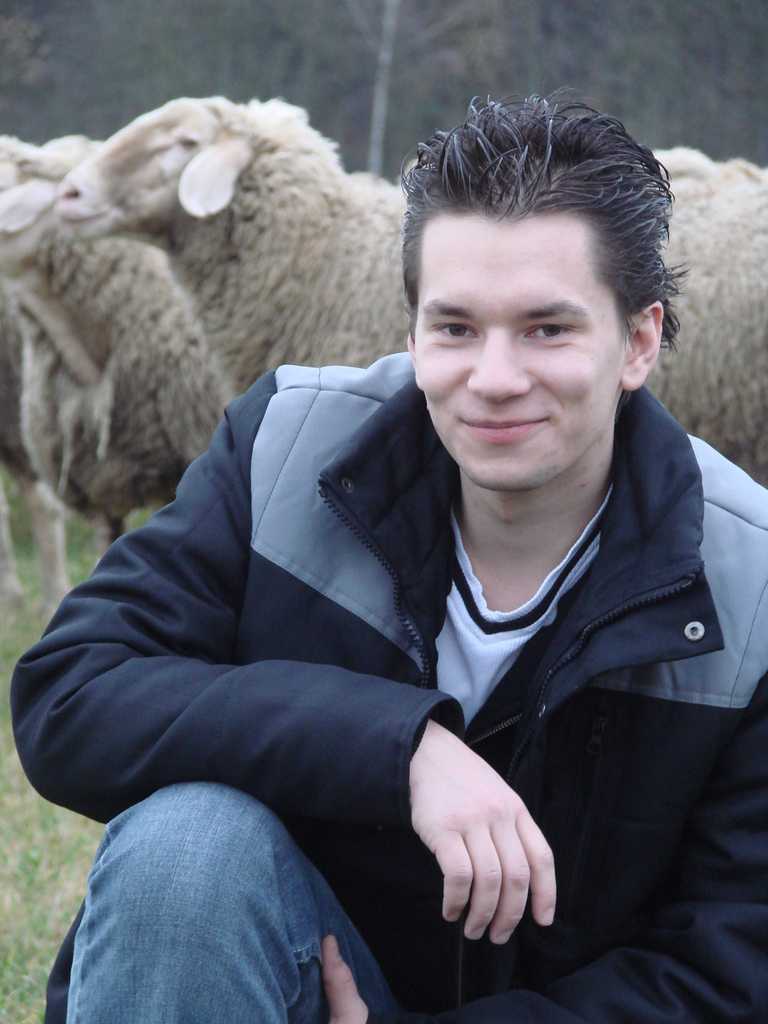Human_hand: (409, 742, 572, 962), (322, 930, 371, 1023)
